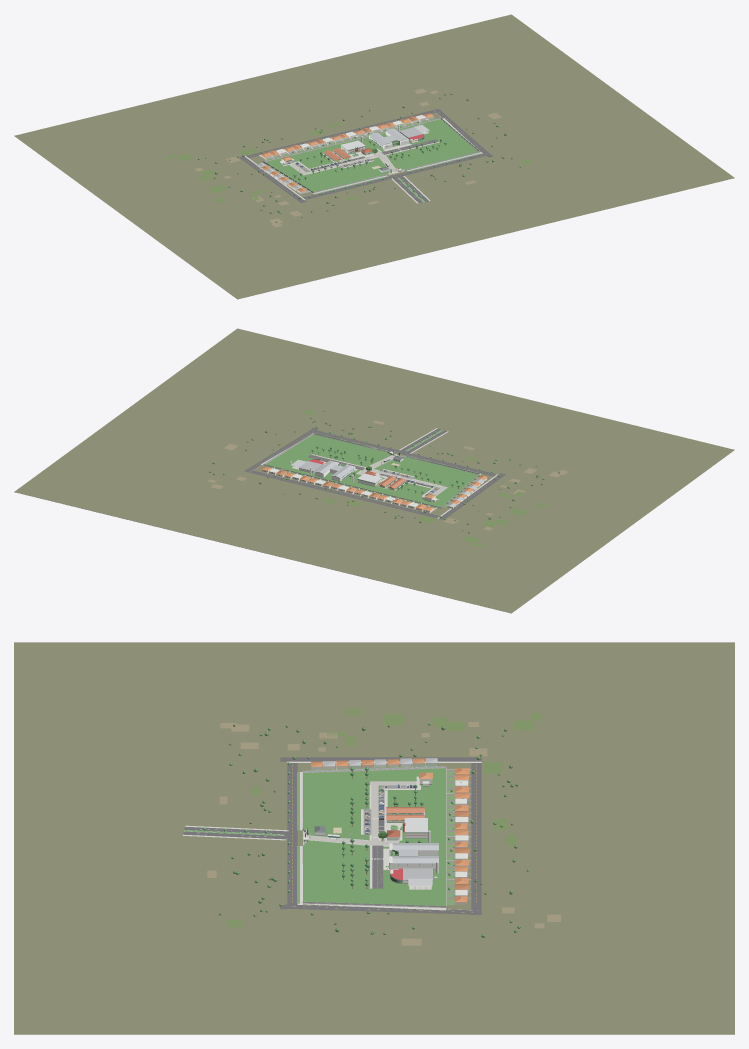
The model's file is campus.glb.
3 views of the same model, one above another, from view 1: azimuth 30°, elevation 25°; view 2: azimuth 150°, elevation 25°; view 3: azimuth 270°, elevation 25° (orthographic). The views are drawn at different scales.
Parts seen in each view (by area): view 1: base_campo, lote, ext_rua_asfalto_oeste_frente, grade, ext_rua_asfalto_leste_fundo; view 2: base_campo, lote, ext_rua_asfalto_leste_fundo, ext_rua_asfalto_oeste_frente, grade; view 3: base_campo, lote, ext_rua_asfalto_leste_fundo, ext_rua_asfalto_oeste_frente, ext_rua_asfalto_sul_lateral, tapajos_asfalto_pistas, ext_rua_asfalto_norte_lateral.
Part boxes in pixels (left/top/right/bottom): base_campo: left=14, top=14, right=734, bottom=299; lote: left=265, top=119, right=478, bottom=191; ext_rua_asfalto_oeste_frente: left=296, top=152, right=489, bottom=199; grade: left=263, top=117, right=479, bottom=192; ext_rua_asfalto_leste_fundo: left=239, top=109, right=439, bottom=159; base_campo: left=14, top=328, right=734, bottom=613; lote: left=265, top=434, right=477, bottom=507; ext_rua_asfalto_leste_fundo: left=244, top=470, right=446, bottom=519; ext_rua_asfalto_oeste_frente: left=309, top=429, right=500, bottom=476; grade: left=263, top=433, right=479, bottom=508; base_campo: left=14, top=642, right=734, bottom=1034; lote: left=302, top=768, right=445, bottom=907; ext_rua_asfalto_leste_fundo: left=471, top=757, right=481, bottom=914; ext_rua_asfalto_oeste_frente: left=287, top=757, right=297, bottom=908; ext_rua_asfalto_sul_lateral: left=286, top=904, right=471, bottom=914; tapajos_asfalto_pistas: left=183, top=827, right=288, bottom=839; ext_rua_asfalto_norte_lateral: left=287, top=757, right=481, bottom=761.
Size of what is drawn, in the model's own units: 900 by 12.77 by 700.
